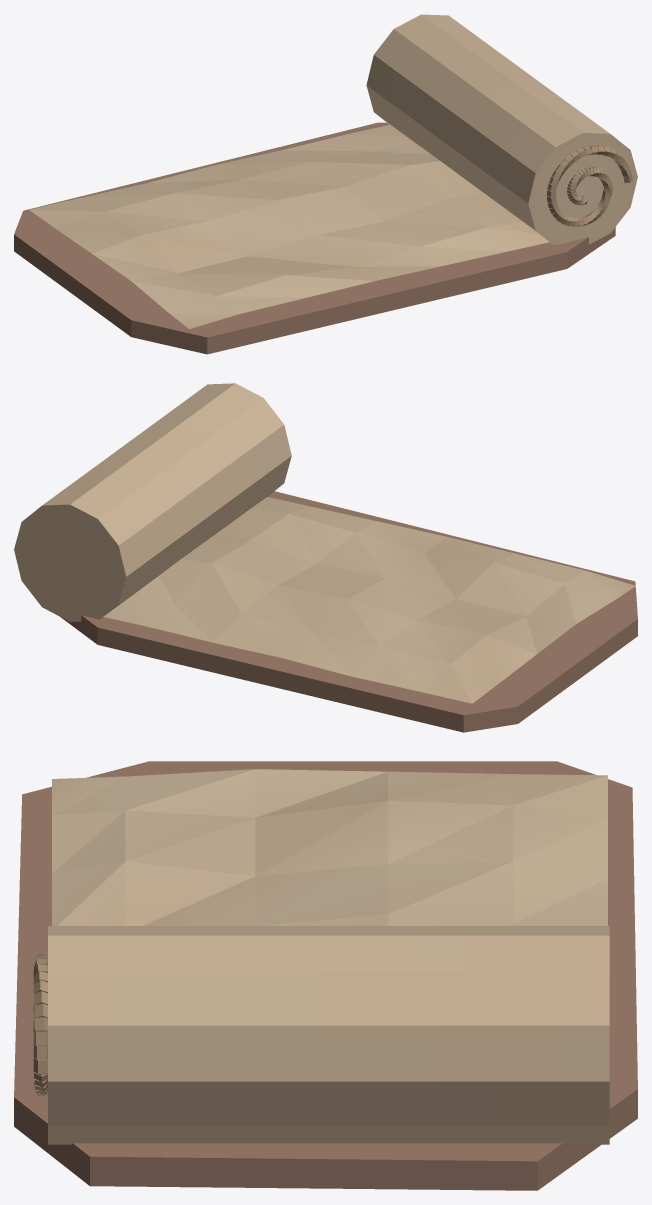
Rendered from bedroll.glb.
3 views of the same model, one above another, from view 1: azimuth 30°, elevation 25°; view 2: azimuth 150°, elevation 25°; view 3: azimuth 270°, elevation 25° (orthographic). The views are drawn at different scales.
Parts seen in each view (by area): view 1: world; view 2: world; view 3: world.
Part boxes in pixels (x1=…): world: x1=14, y1=14, x2=637, y2=354; world: x1=14, y1=383, x2=637, y2=732; world: x1=14, y1=761, x2=637, y2=1190.
Bounding box in the file's own units: 3.53 × 0.865 × 2.3.
